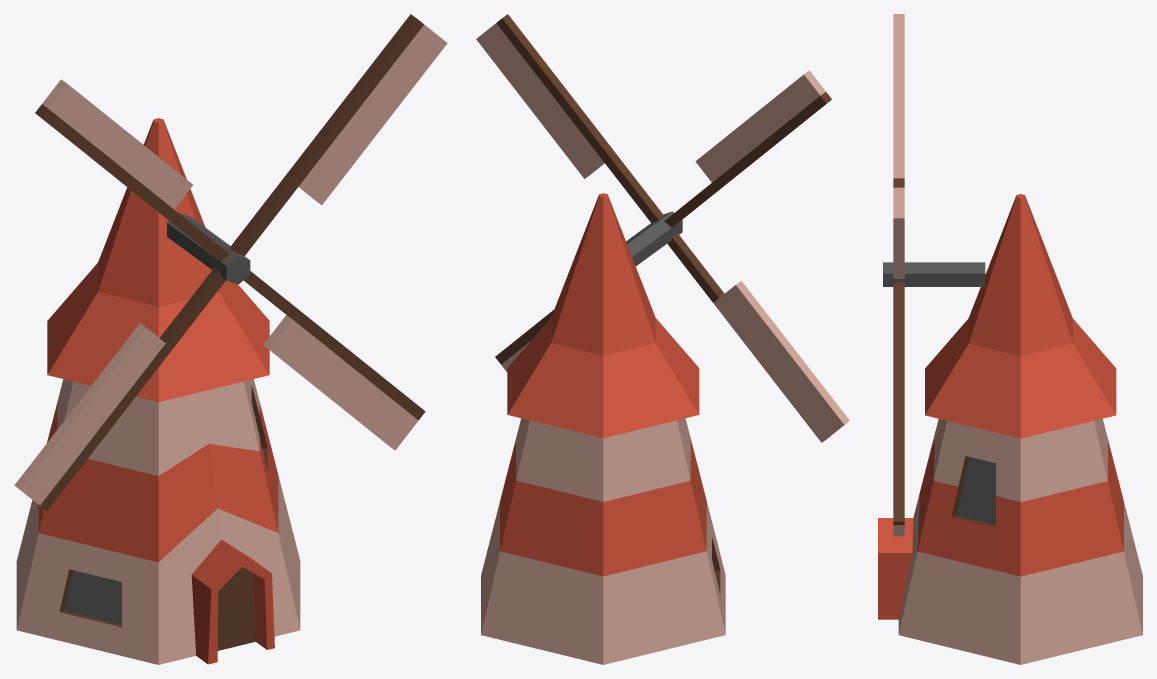
Rendered from U4_ADJ_02 (Molino) Archivo fbx listo para importar en Unity.fbx.
3 renders of one model, left to right at view 1: azimuth 30°, elevation 25°; view 2: azimuth 150°, elevation 25°; view 3: azimuth 270°, elevation 25°, orthographic. The views are drawn at different scales.
Parts seen in each view (by area): view 1: Molino; view 2: Molino; view 3: Molino.
Part boxes in pixels (<box>): Molino: <box>14,14,447,664</box>; Molino: <box>476,14,849,664</box>; Molino: <box>878,14,1142,664</box>.
Size of the model in its own units: 589 by 799 by 367.
